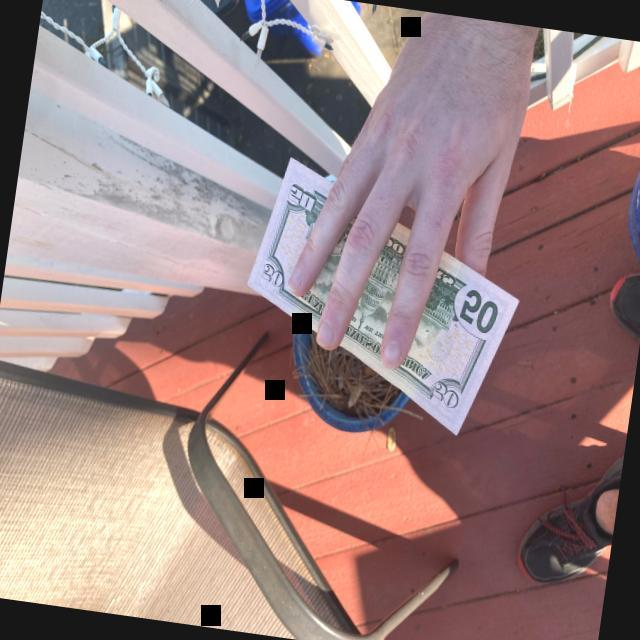fifty: (246, 156, 520, 435)
